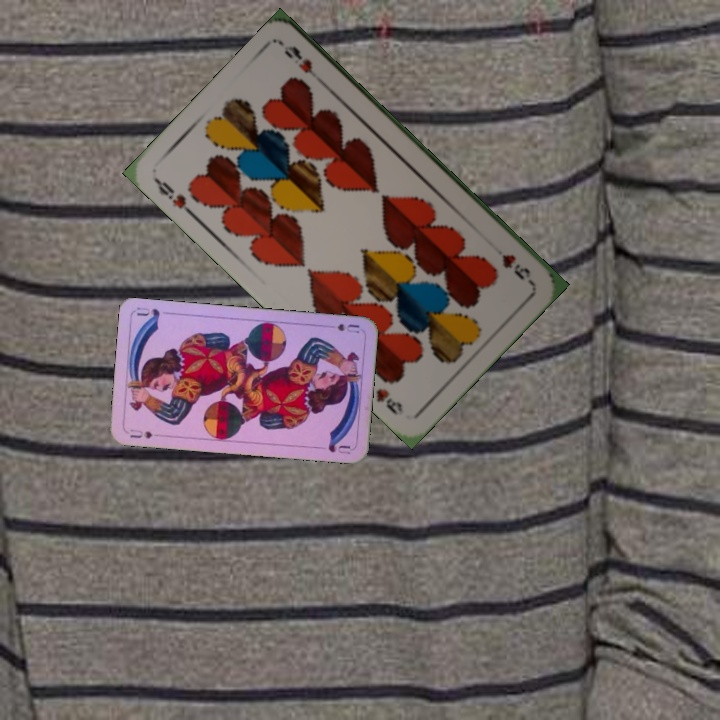H9: (150, 174, 198, 220), (498, 250, 535, 287)
SU: (333, 320, 362, 336), (126, 425, 155, 441)
